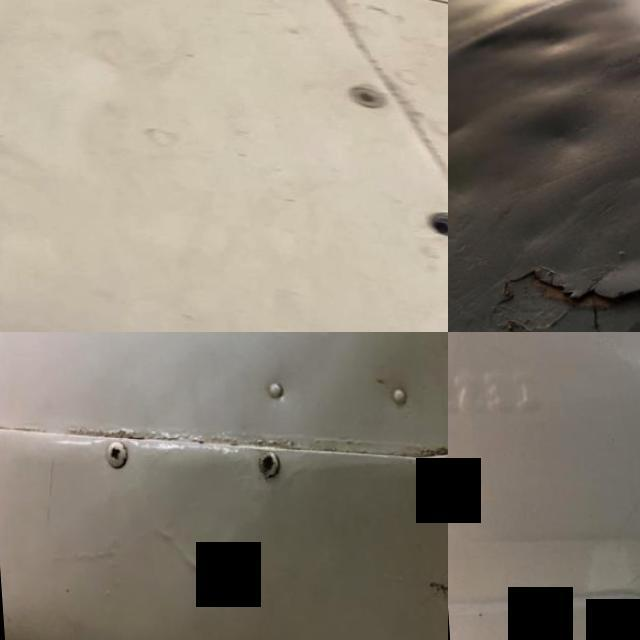Crack: (474, 234, 640, 332)
Dent: (486, 80, 624, 184), (454, 0, 599, 75)
Missing_Fastener: (420, 203, 448, 240)
